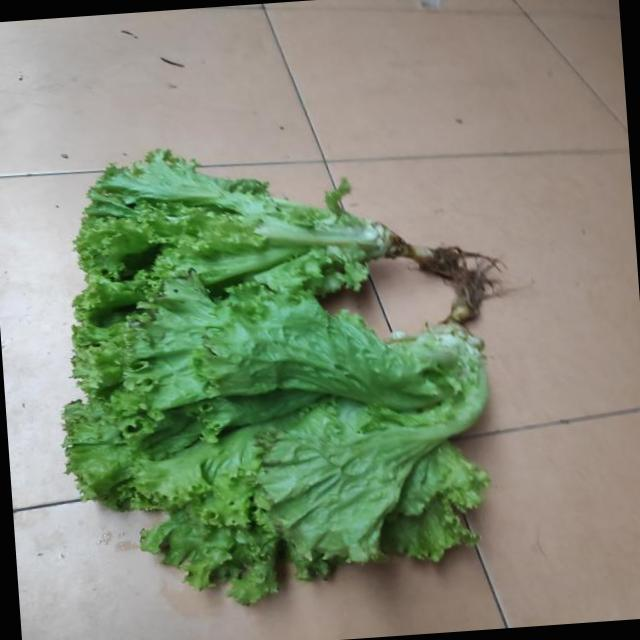Lettuce-Ready-to-Harvest: (63, 271, 487, 578), (76, 149, 408, 294)
